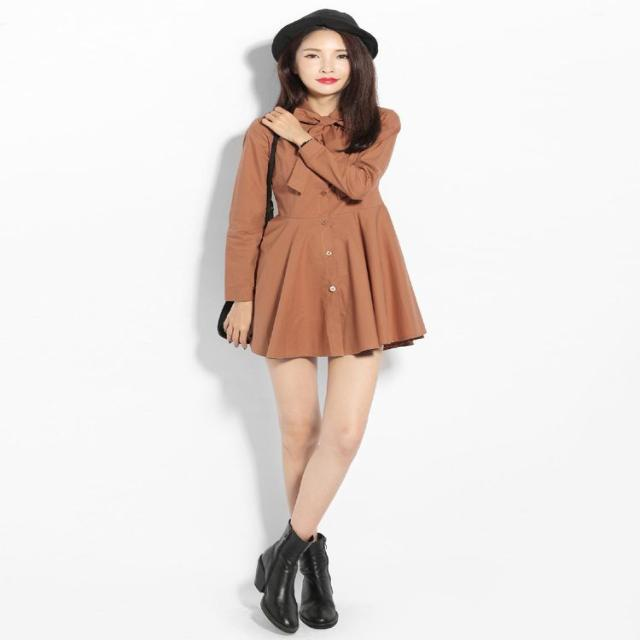long sleeve dress: (226, 99, 428, 354)
